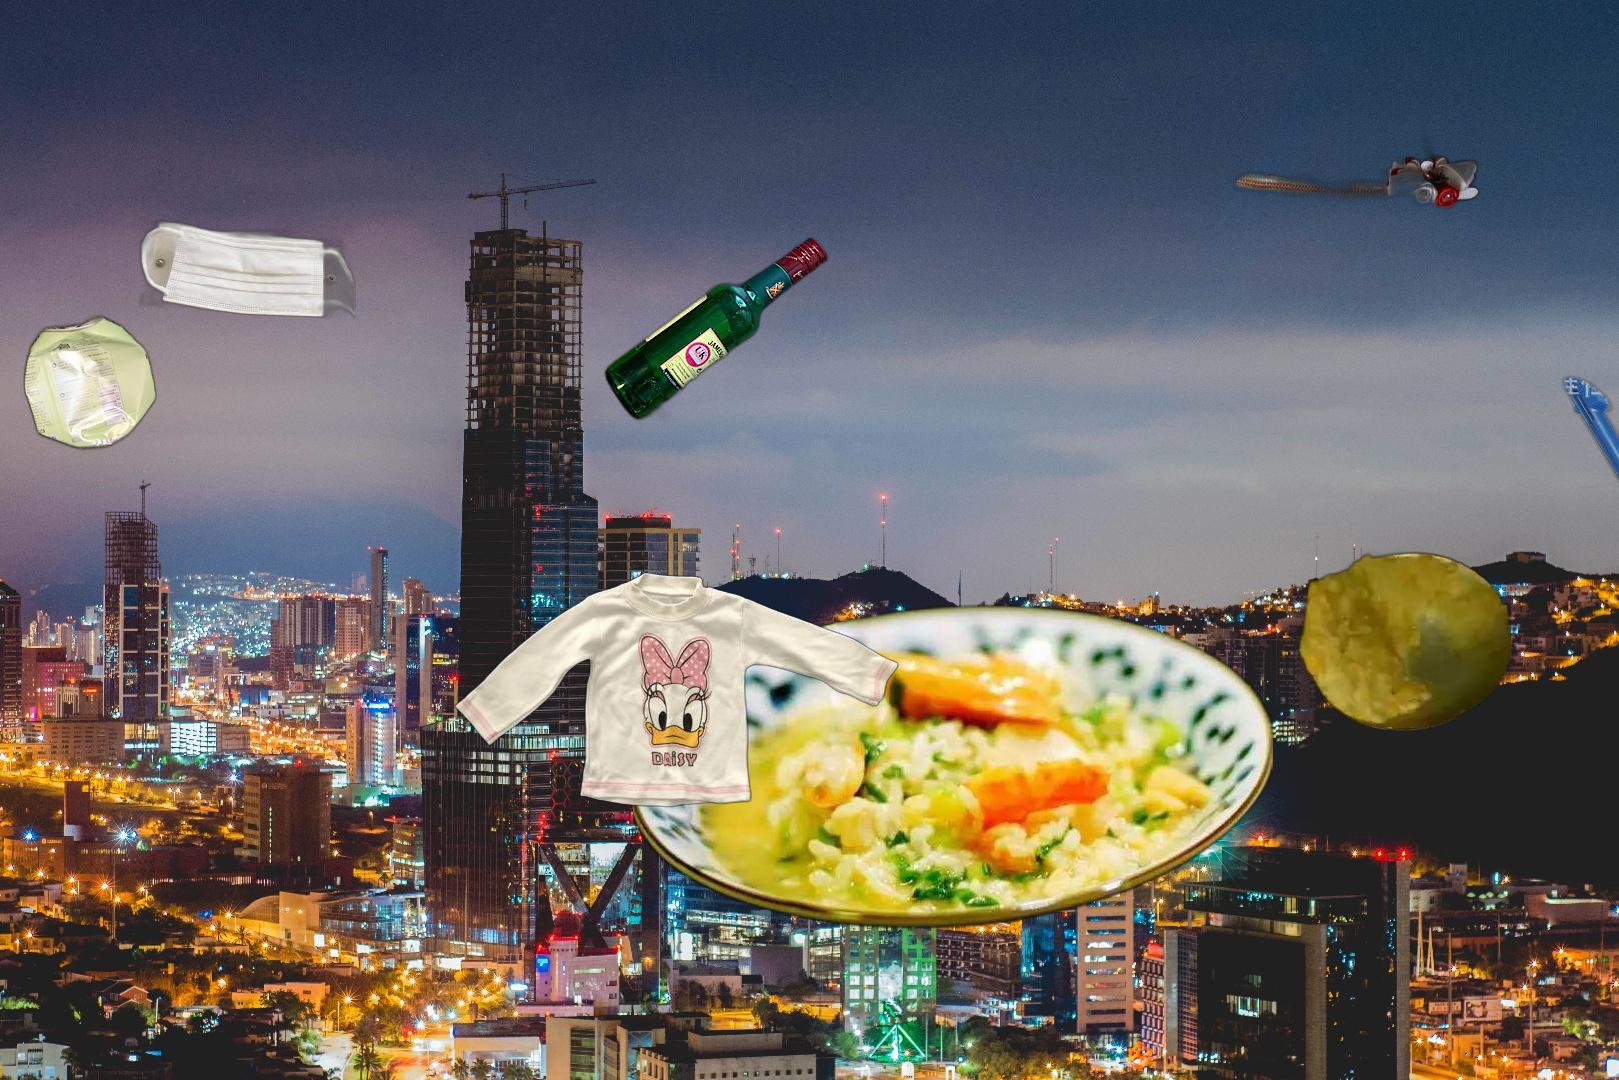biological: (633, 601, 1273, 931), (1083, 520, 1511, 736)
clothes: (450, 570, 903, 811), (1231, 96, 1483, 215)
glass: (602, 233, 832, 428)
metal-cans: (19, 311, 162, 454)
penholder: (1558, 322, 1619, 727)
trash: (136, 213, 356, 325)
